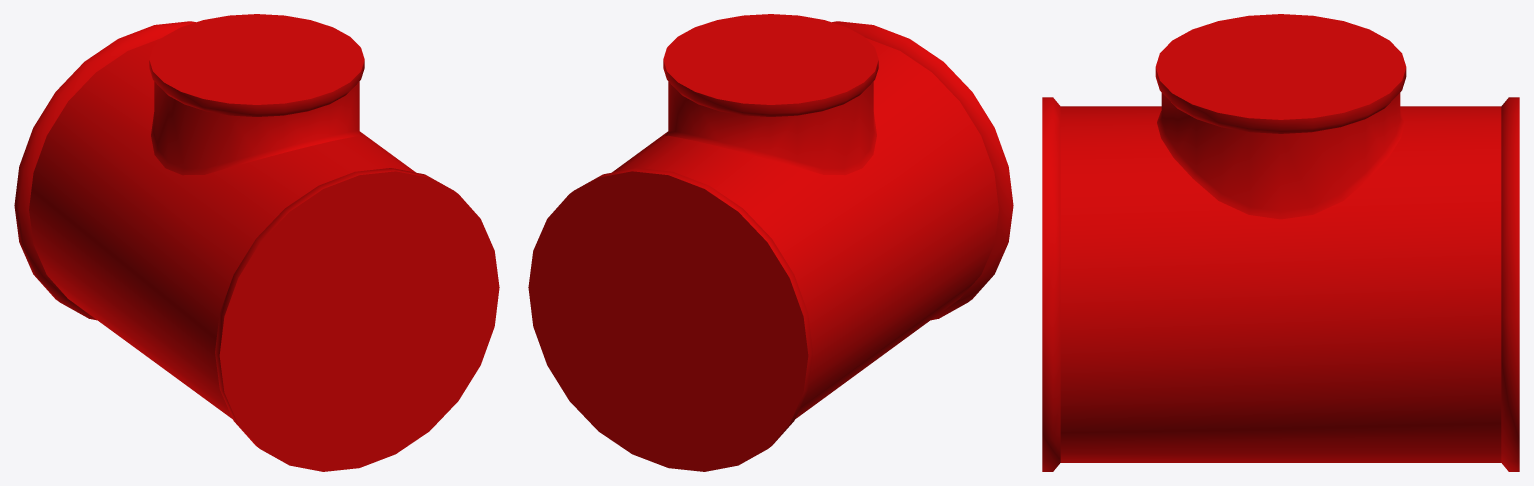
3 views of the same model, side by side, from view 1: azimuth 30°, elevation 25°; view 2: azimuth 150°, elevation 25°; view 3: azimuth 270°, elevation 25° (orthographic). The views are drawn at different scales.
Visible parts, largest first — view 1: Mesh; view 2: Mesh; view 3: Mesh.
Boxes of the visible parts, x1=… form: Mesh: x1=14, y1=14, x2=499, y2=471; Mesh: x1=528, y1=14, x2=1013, y2=471; Mesh: x1=1042, y1=14, x2=1519, y2=471.
Bounding box in the file's own units: 0.6303 × 0.7175 × 0.8.
